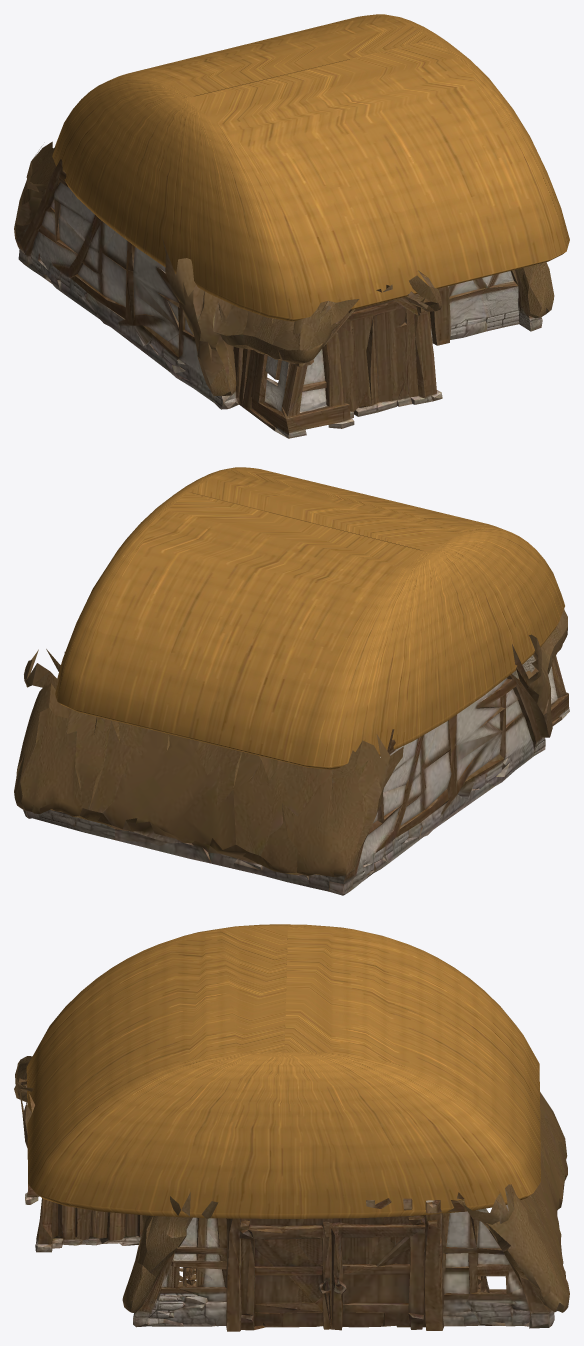
File: barn.glb
The picture shows the model from 3 angles, top to bottom: view 1: azimuth 30°, elevation 25°; view 2: azimuth 150°, elevation 25°; view 3: azimuth 270°, elevation 25°; orthographic projection. The views are drawn at different scales.
Visible parts, largest first — view 1: barn; view 2: barn; view 3: barn.
Part boxes in pixels (box(x1,y1,x2,y2)): barn: box(14, 14, 569, 438); barn: box(14, 467, 569, 895); barn: box(14, 924, 569, 1331).
Bounding box in the file's own units: 11.32 × 7.02 × 13.74.
2 materials, 2 textured.
